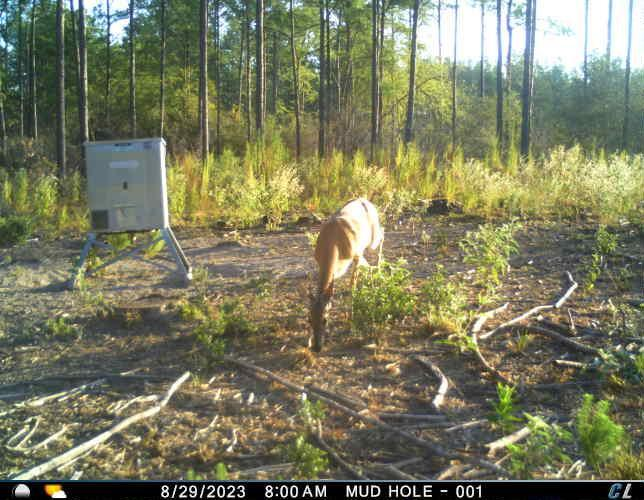Deer: (295, 195, 388, 357)
